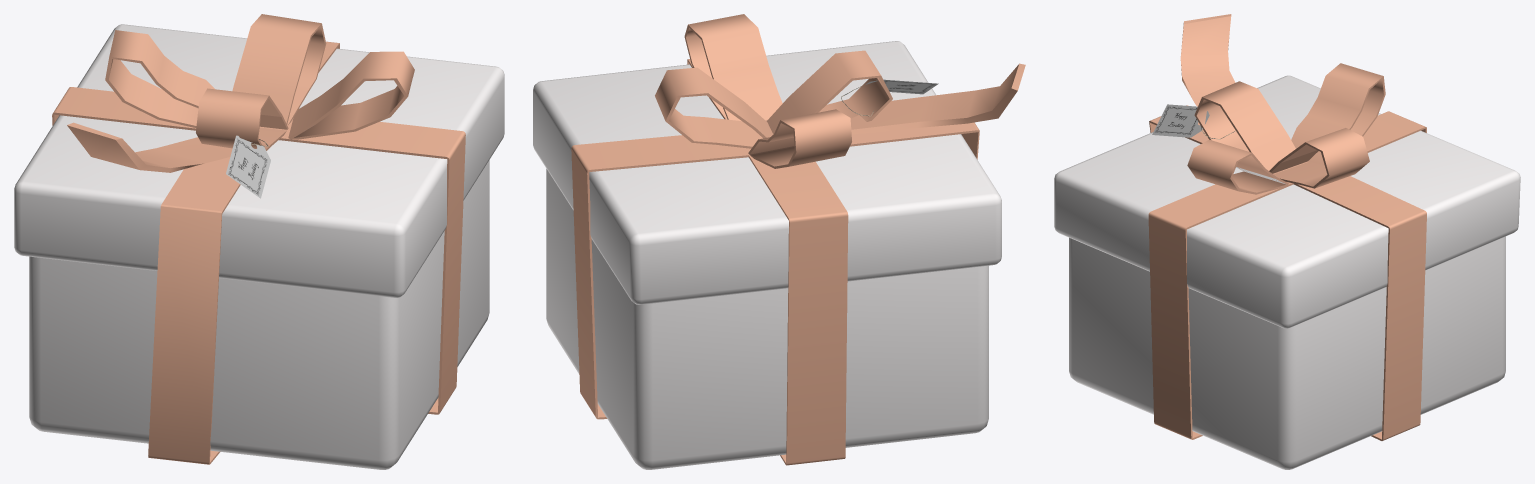
The model's file is giftbox.fbx.
3 renders of one model, left to right at view 1: azimuth 30°, elevation 25°; view 2: azimuth 150°, elevation 25°; view 3: azimuth 270°, elevation 25°, orthographic. The views are drawn at different scales.
Visible parts, largest first — view 1: Object005; view 2: Object005; view 3: Object005.
Part boxes in pixels (x1=…): Object005: x1=14, y1=14, x2=504, y2=469; Object005: x1=533, y1=14, x2=1025, y2=469; Object005: x1=1054, y1=14, x2=1520, y2=469.
Size of the model in its own units: 92.99 by 62.95 by 92.99.
